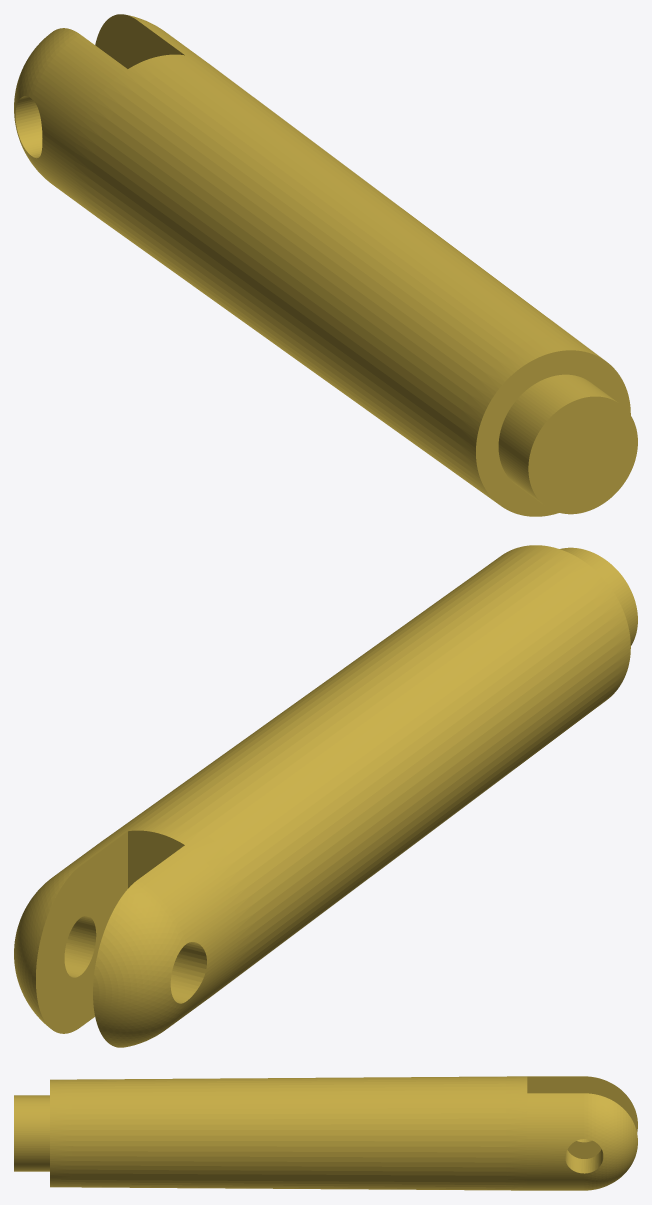
3 renders of one model, top to bottom at view 1: azimuth 30°, elevation 25°; view 2: azimuth 150°, elevation 25°; view 3: azimuth 270°, elevation 25°, orthographic. The views are drawn at different scales.
Visible parts, largest first — view 1: node; view 2: node; view 3: node.
Part boxes in pixels (x1,y1,x2,y2): node: [14, 14, 637, 516]; node: [14, 545, 637, 1047]; node: [14, 1076, 637, 1190].
Size of the model in its own units: 0.0598 by 0.0598 by 0.3268.
